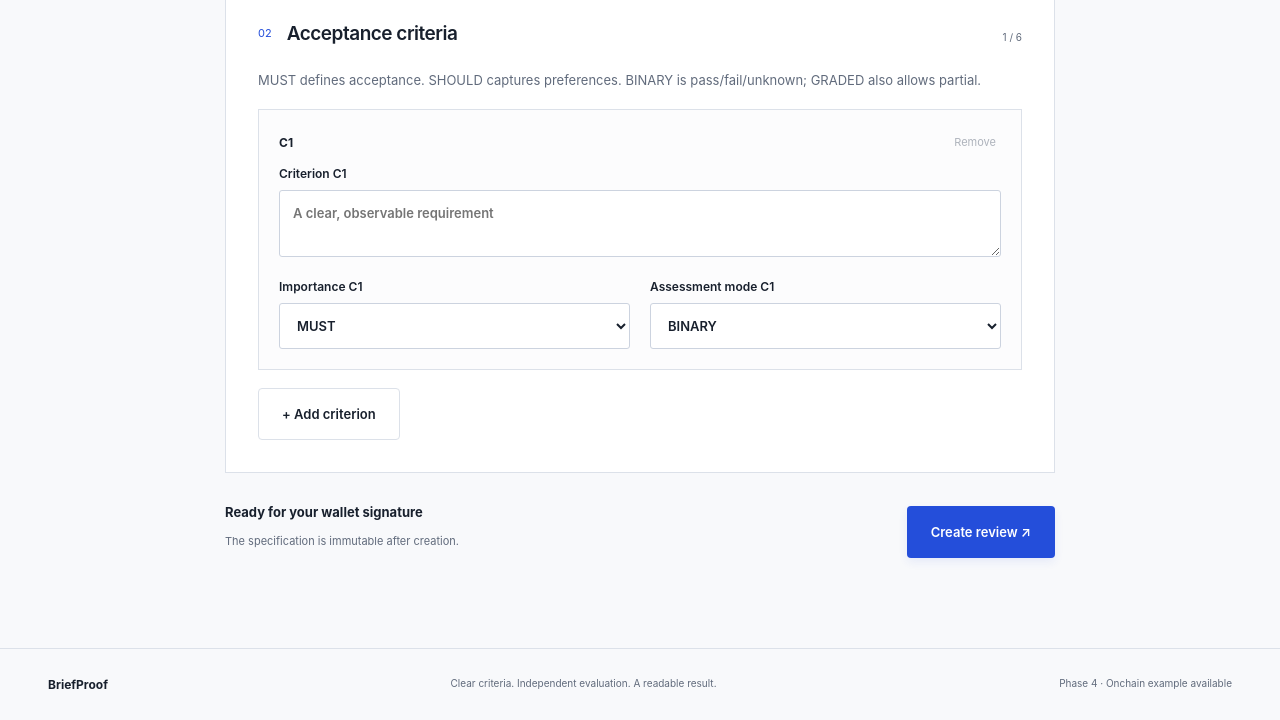
Test case: adds, removes and renumbers criterion IDs
This screenshot has width=1280, height=720.
(page scrolled)
Click the button "+ Add criterion" at (329, 414), box [258, 388, 400, 440]
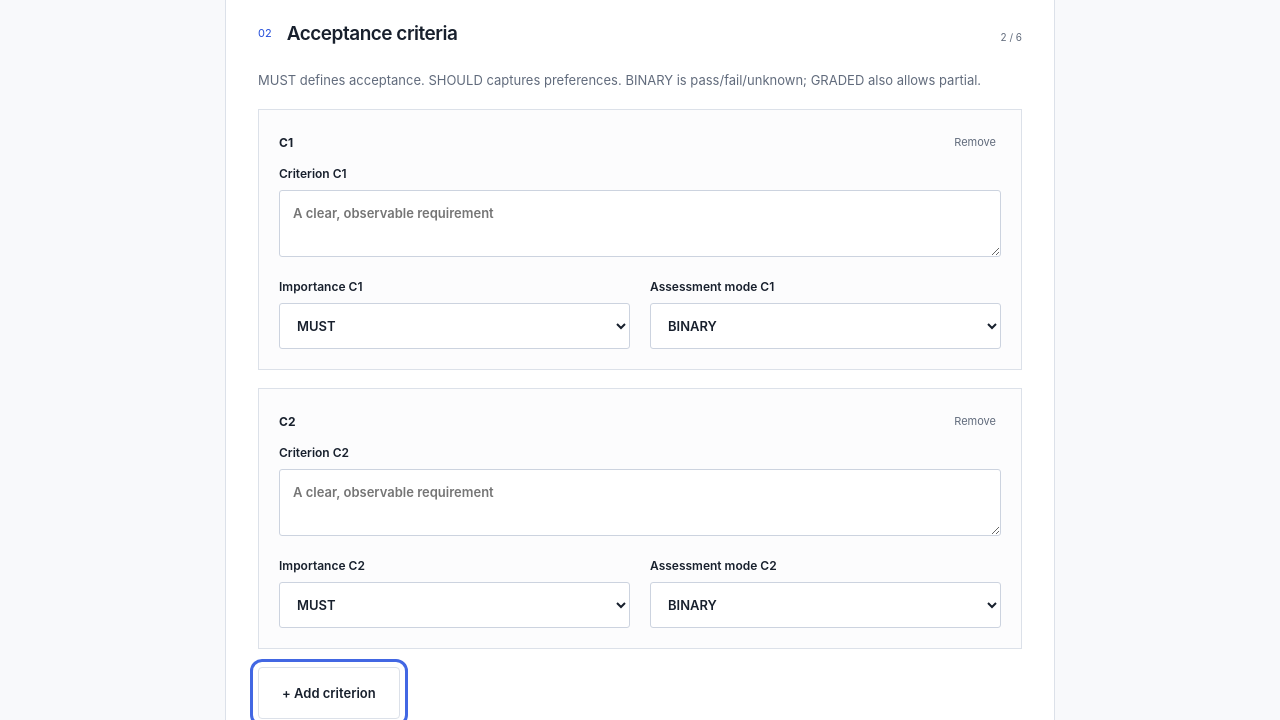
Type "Second" into the text box labelled "Criterion C2" at (640, 503), box [279, 469, 1001, 536]
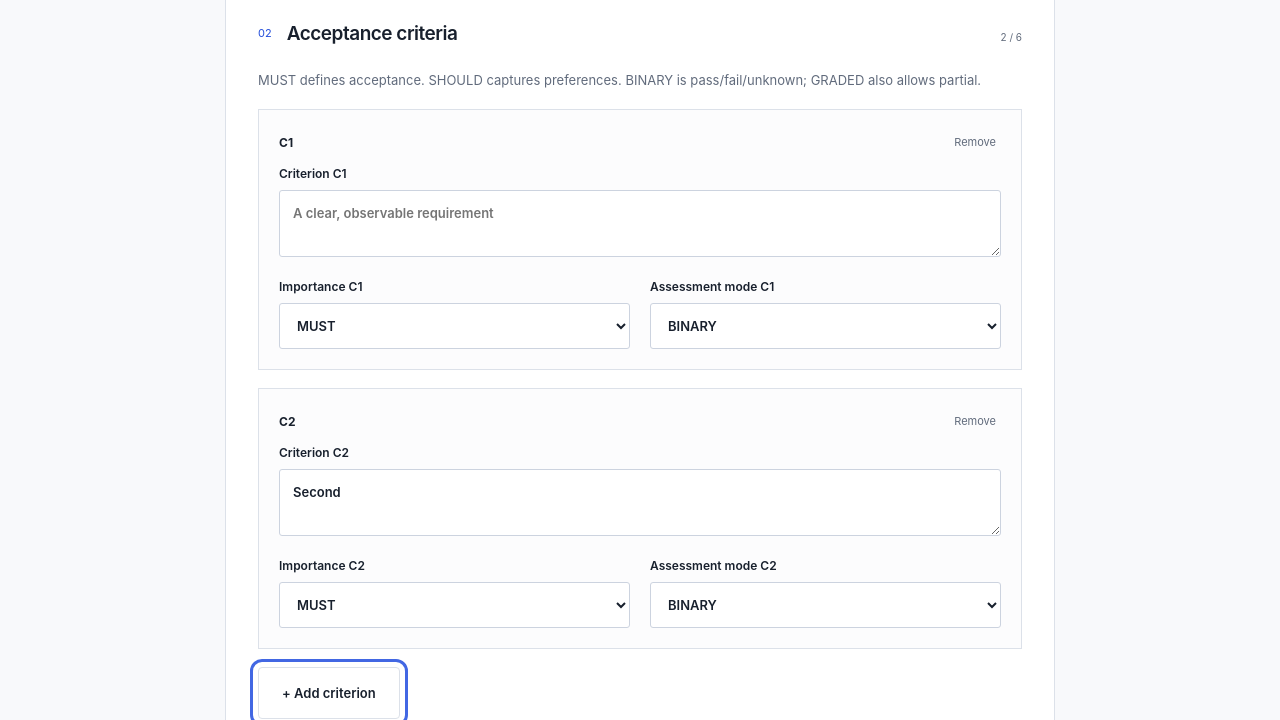
Click the button with aria-label "Remove C1" at (975, 142), box [949, 130, 1001, 154]
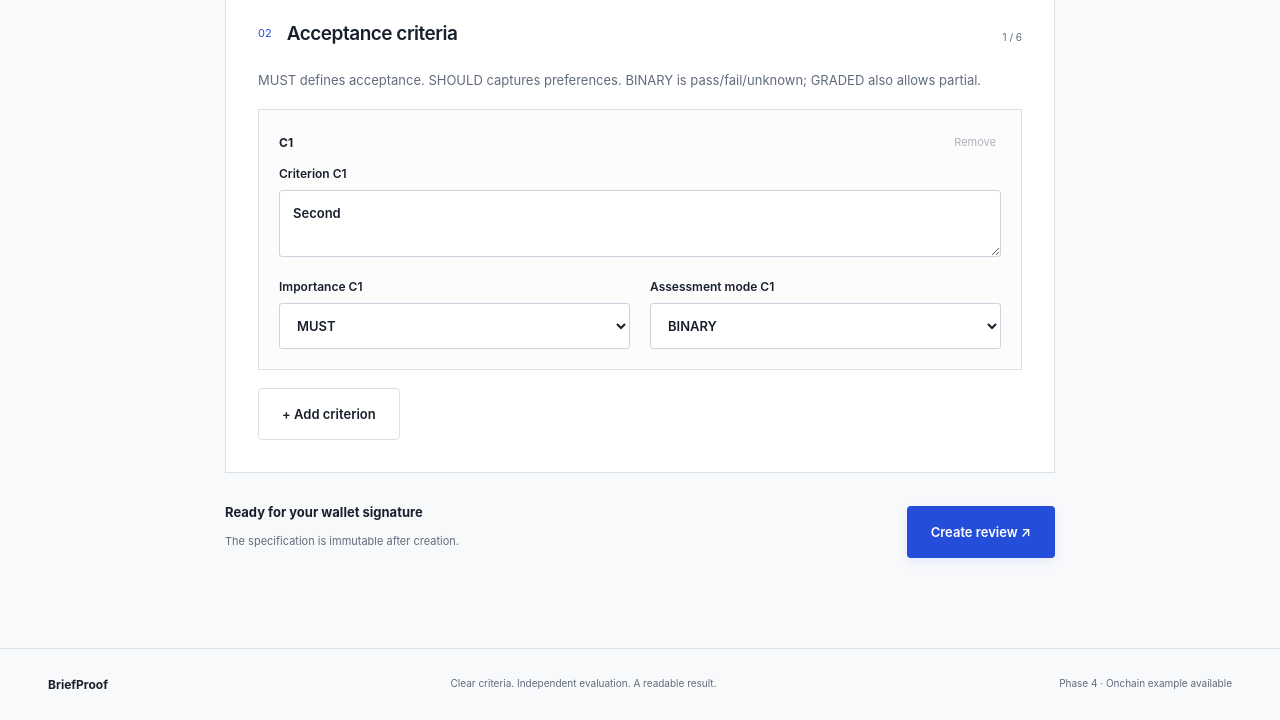
Now the text box labelled "Criterion C1" holds "Second", box [279, 190, 1001, 257]
Now the label labelled "Criterion C2" is gone
